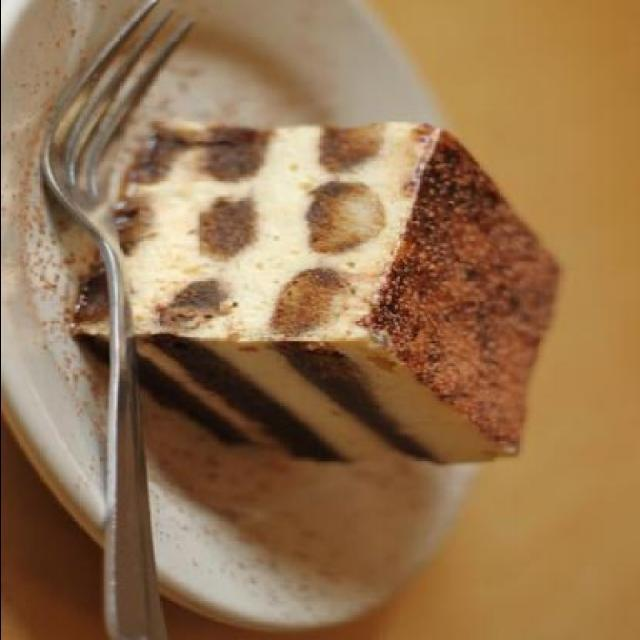Tiramisu: (80, 92, 578, 480)
